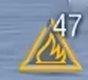1fire: (15, 40, 84, 72)
